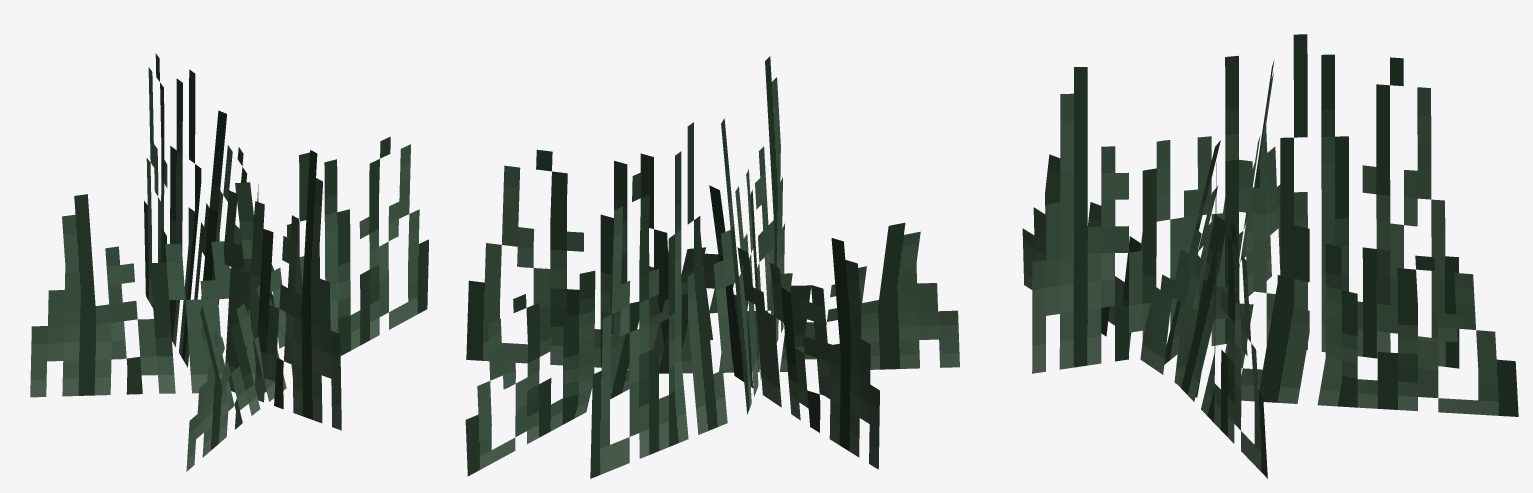
Rendered from Flowers_Grass_A.fbx.
3 renders of one model, left to right at view 1: azimuth 30°, elevation 25°; view 2: azimuth 150°, elevation 25°; view 3: azimuth 270°, elevation 25°, orthographic. The views are drawn at different scales.
Visible parts, largest first — view 1: Flowers_Grass; view 2: Flowers_Grass; view 3: Flowers_Grass.
Boxes of the visible parts, left/top/right/bottom form: Flowers_Grass: left=30, top=53, right=428, bottom=471; Flowers_Grass: left=465, top=56, right=959, bottom=478; Flowers_Grass: left=1022, top=34, right=1518, bottom=478.
Bounding box in the file's own units: 965 × 655 × 931.
1 material, 1 textured.
